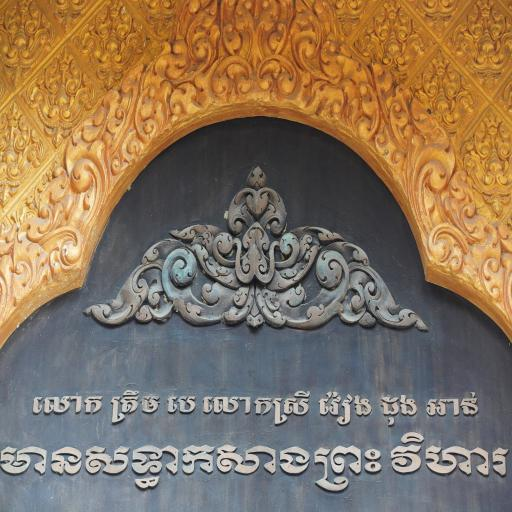la: (0, 163, 87, 320), (294, 0, 384, 141), (426, 190, 512, 326), (134, 0, 219, 136), (58, 87, 138, 227), (378, 97, 456, 240), (211, 0, 296, 107)
lua: (83, 162, 433, 334), (18, 42, 103, 150), (405, 40, 487, 144), (68, 0, 156, 92), (447, 103, 512, 226), (350, 0, 438, 89), (446, 0, 512, 99), (0, 98, 52, 211), (0, 0, 62, 92), (402, 0, 480, 42), (322, 0, 380, 44), (130, 0, 192, 37), (39, 0, 98, 34)
